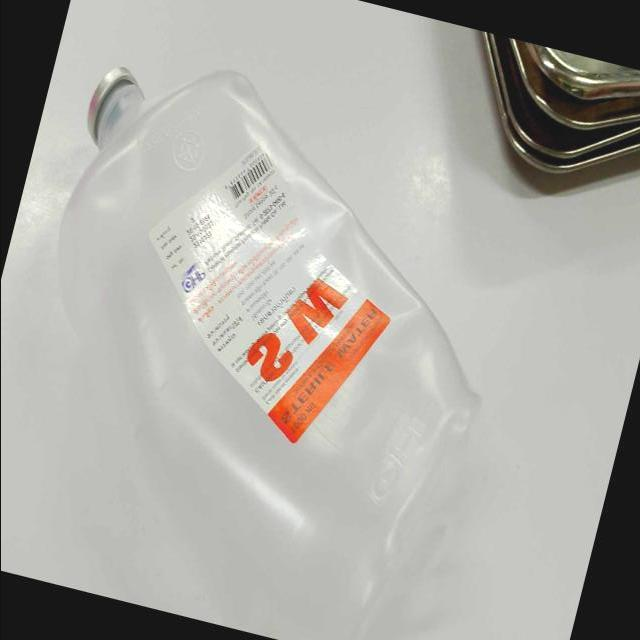General: (145, 144, 393, 445)
Infectious: (55, 67, 484, 638)
Sharps: (480, 30, 640, 174)
